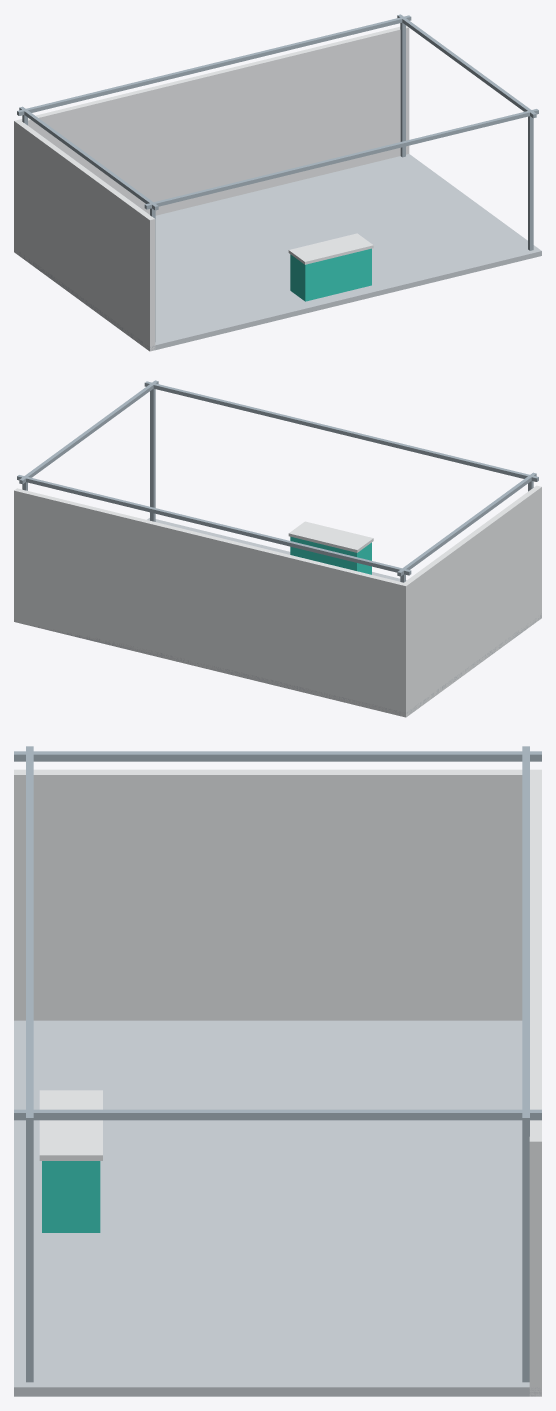
3 views of the same model, one above another, from view 1: azimuth 30°, elevation 25°; view 2: azimuth 150°, elevation 25°; view 3: azimuth 270°, elevation 25° (orthographic). The views are drawn at different scales.
Parts seen in each view (by area): view 1: Exhibition Booth Concept; view 2: Exhibition Booth Concept; view 3: Exhibition Booth Concept.
Part boxes in pixels (<box>): Exhibition Booth Concept: <box>14,14,541,351</box>; Exhibition Booth Concept: <box>14,380,541,717</box>; Exhibition Booth Concept: <box>14,746,541,1396</box>.
Size of the model in its own units: 10 by 3.49 by 6.
